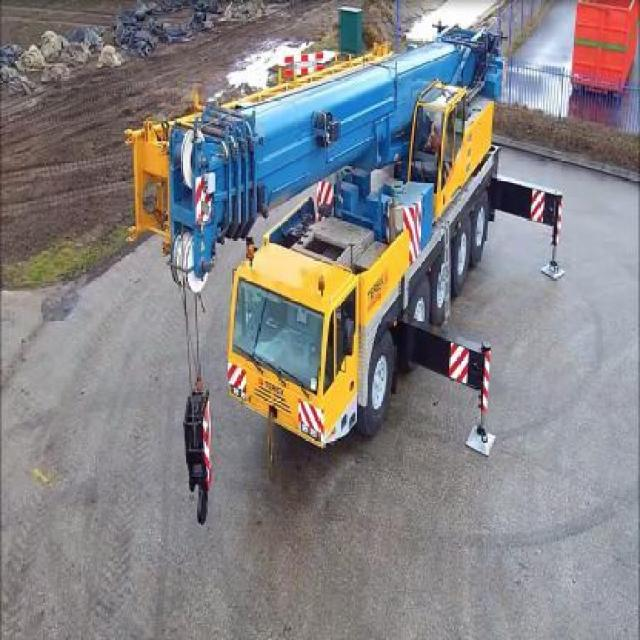Mobile Crane: (136, 25, 562, 512)
